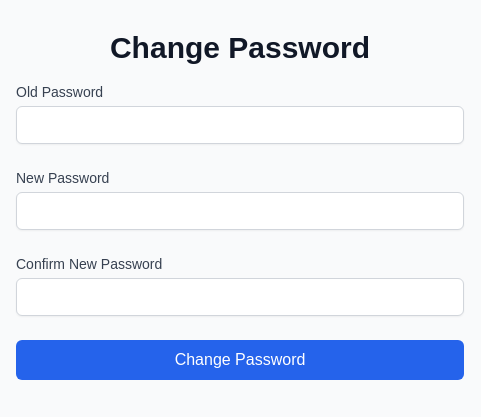
Test: ChangePasswordForm › shows validation errors for empty fields
Step 1. Click the button "Change Password" → (240, 360), box 16,340 -> 464,380
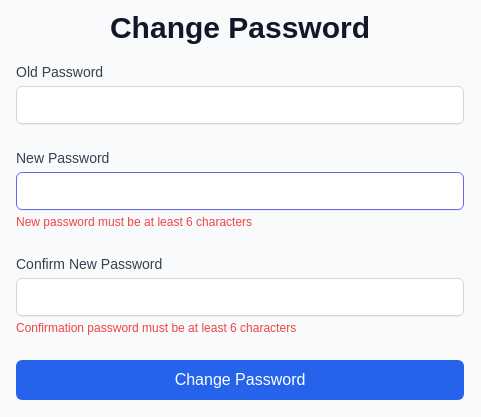
Now the text "New password must be at least 6 characters" is shown, box 16,215 -> 252,229
Now the text "Confirmation password must be at least 6 characters" is shown, box 16,321 -> 296,335
